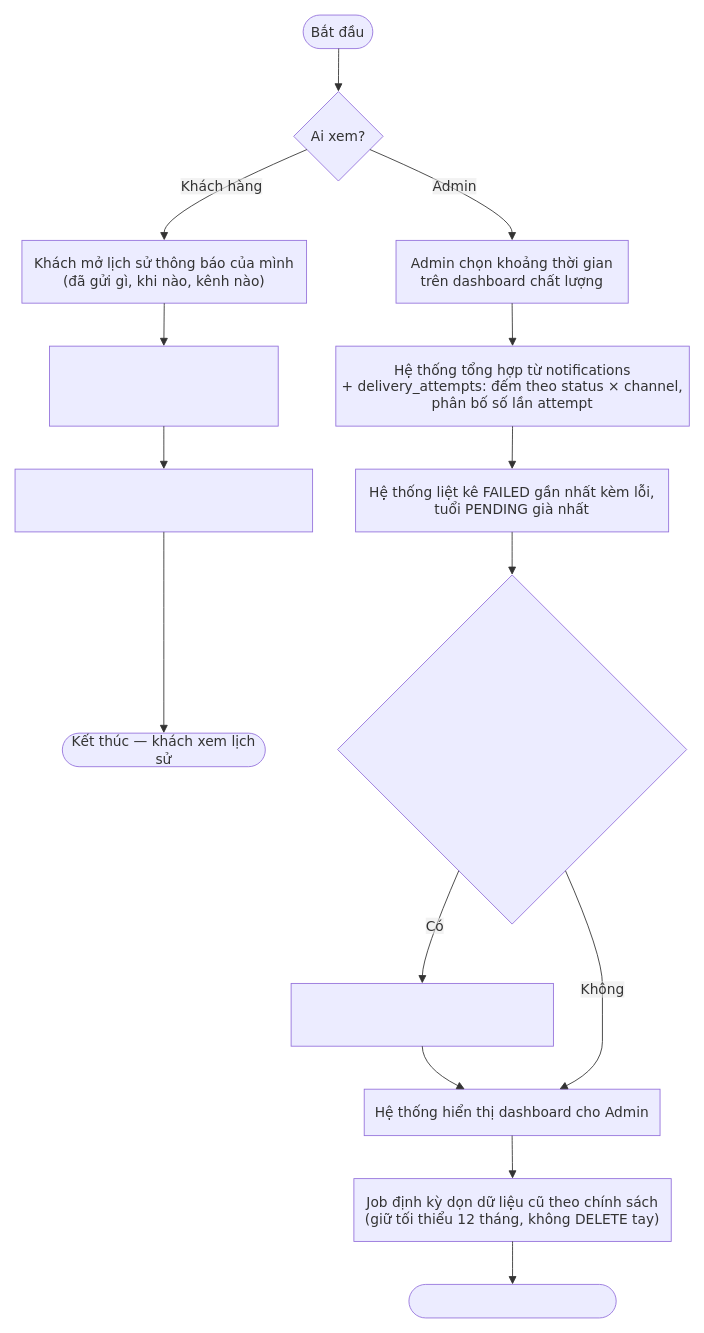
Image size: 704x1333. Some labels were removed from this diagram. Each missing label, with the centre of its shape:
"Hệ thống hiển thị đúng bản đã gửi (nội dung theo version template lúc đó)" belongs at [163,500].
"Hệ thống lọc notifications theo đúng user_id của khách (BR-NOTI-06-1)" belongs at [163,385].
"Hệ thống phát cảnh báo vận hành (NFR-9)" belongs at [421,1014].
"Kết thúc — dashboard hiển thị" belongs at [512,1301].
"Vượt ngưỡng? (tỉ lệ fail > X%, PENDING > Y phút)" belongs at [512,749].
